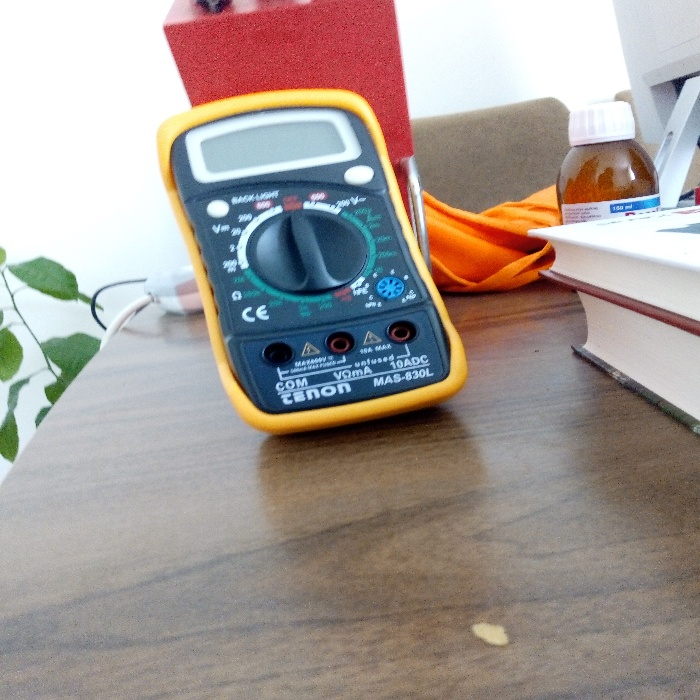multimetre: (142, 76, 483, 447)
